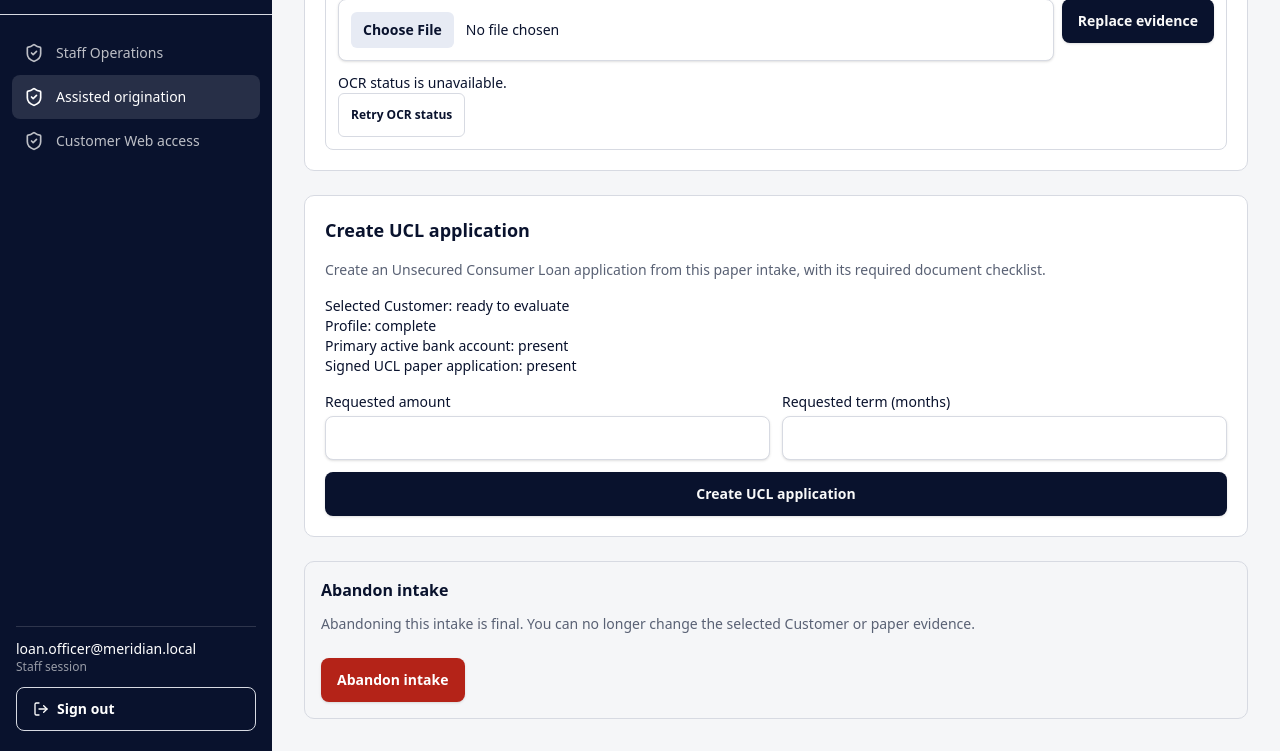
Test: assisted origination pages › reconciles a lost conversion as OPEN without automatically repeating POST
The image size is (1280, 751).
(page scrolled)
Type "10000000" into the number field labelled "Requested amount" at coordinates (548, 438), box [325,416,770,460]
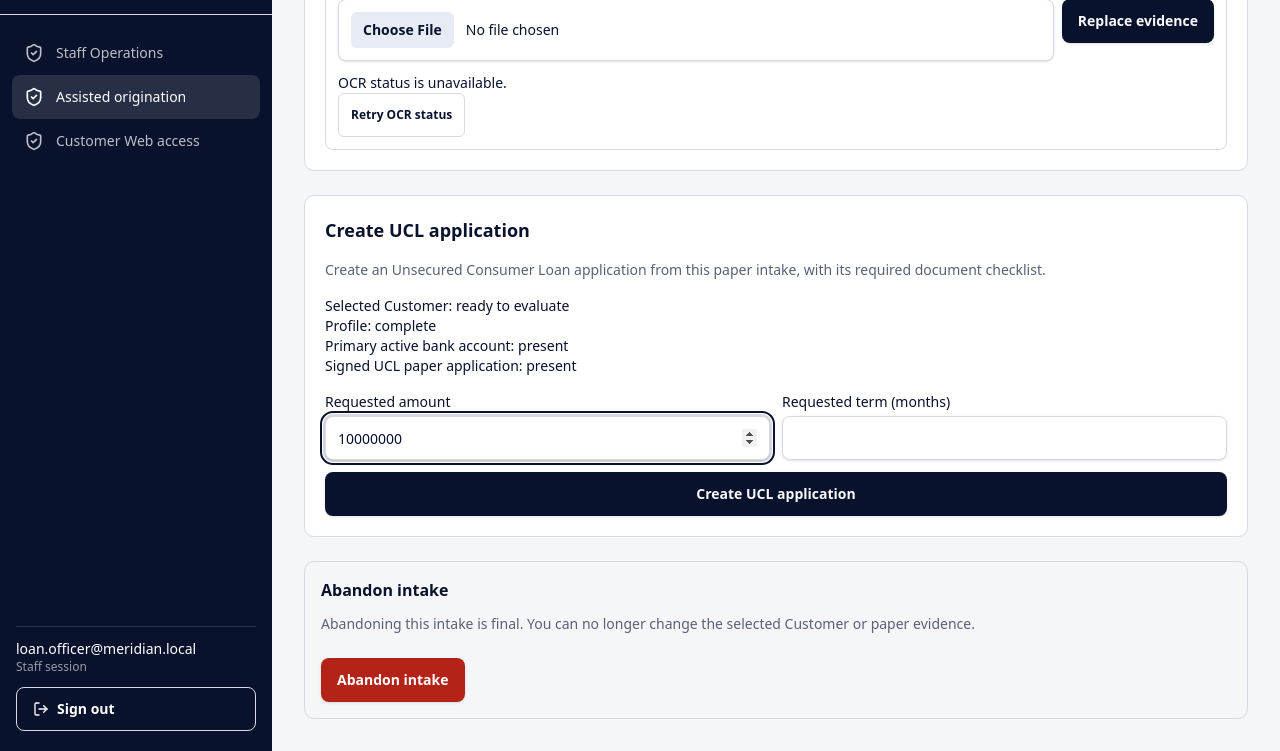
Type "12" into the number field labelled "Requested term (months)" at coordinates (1004, 438), box [782,416,1227,460]
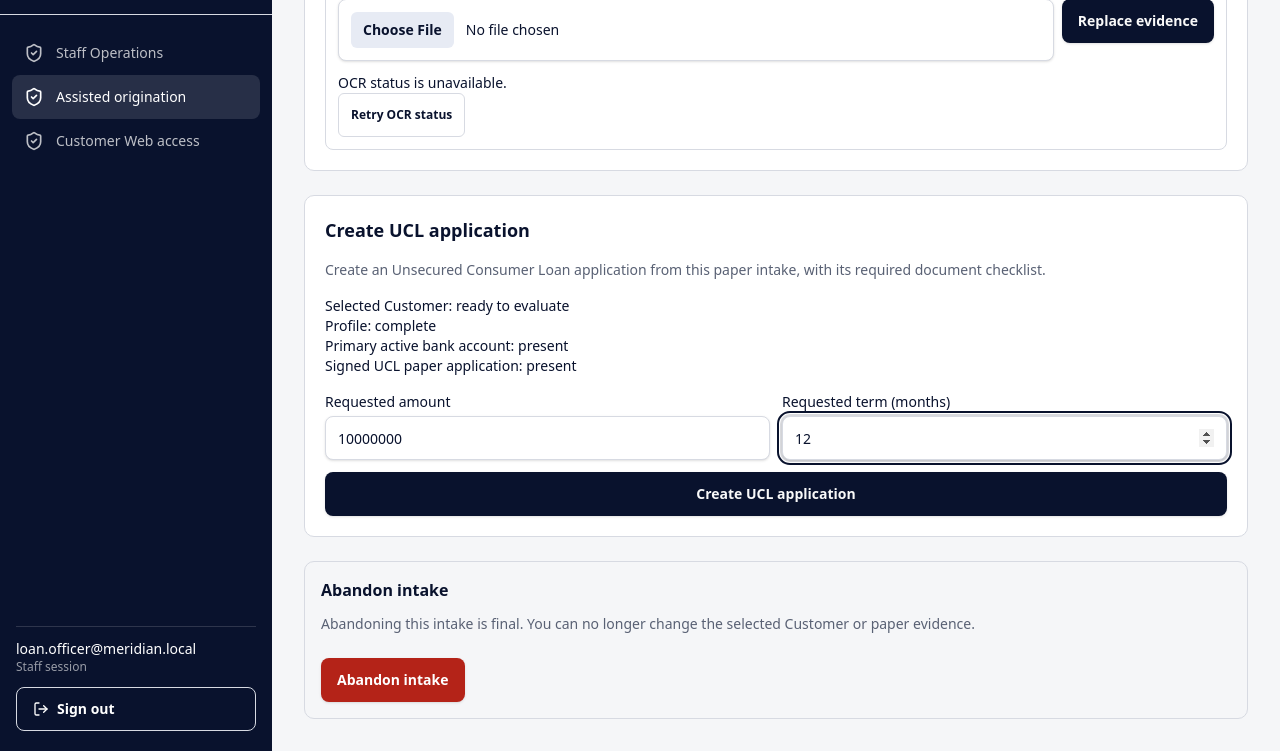
Click the button "Create UCL application" at coordinates (776, 494), box [325,472,1227,516]
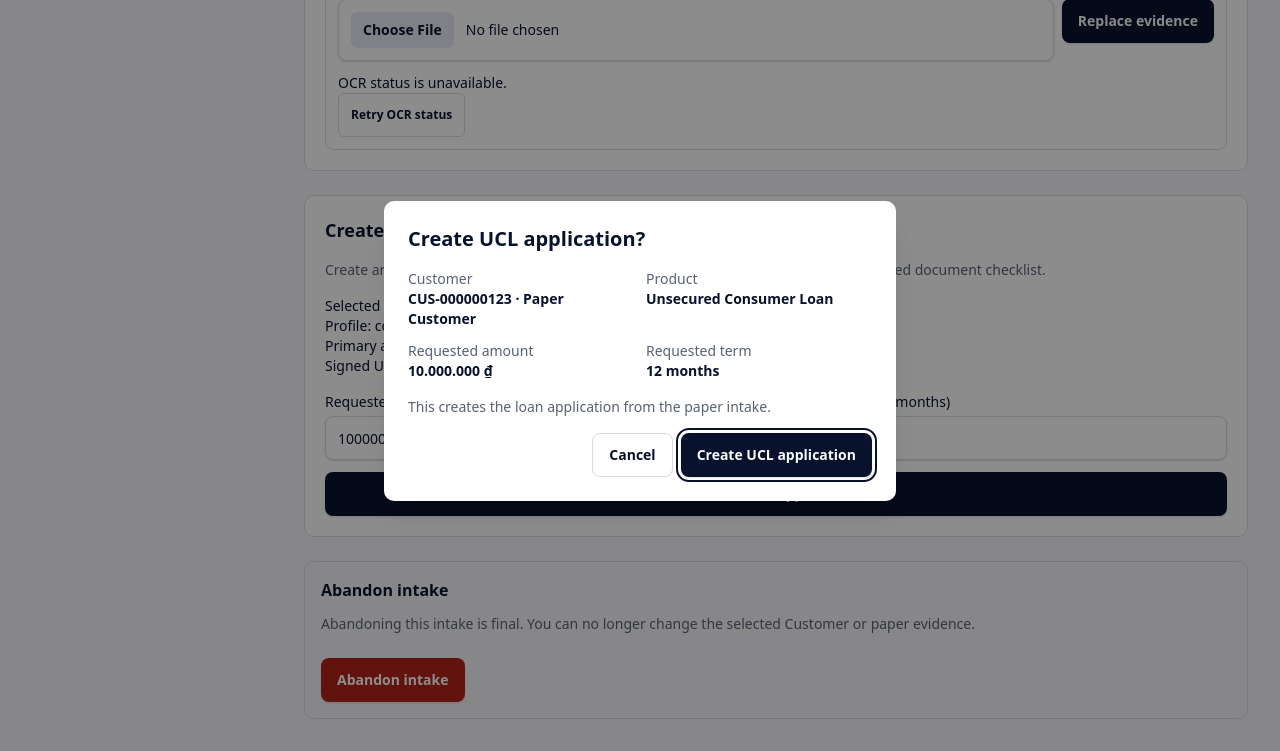
Click the button "Create UCL application" at coordinates (776, 455), box [681,433,872,477]
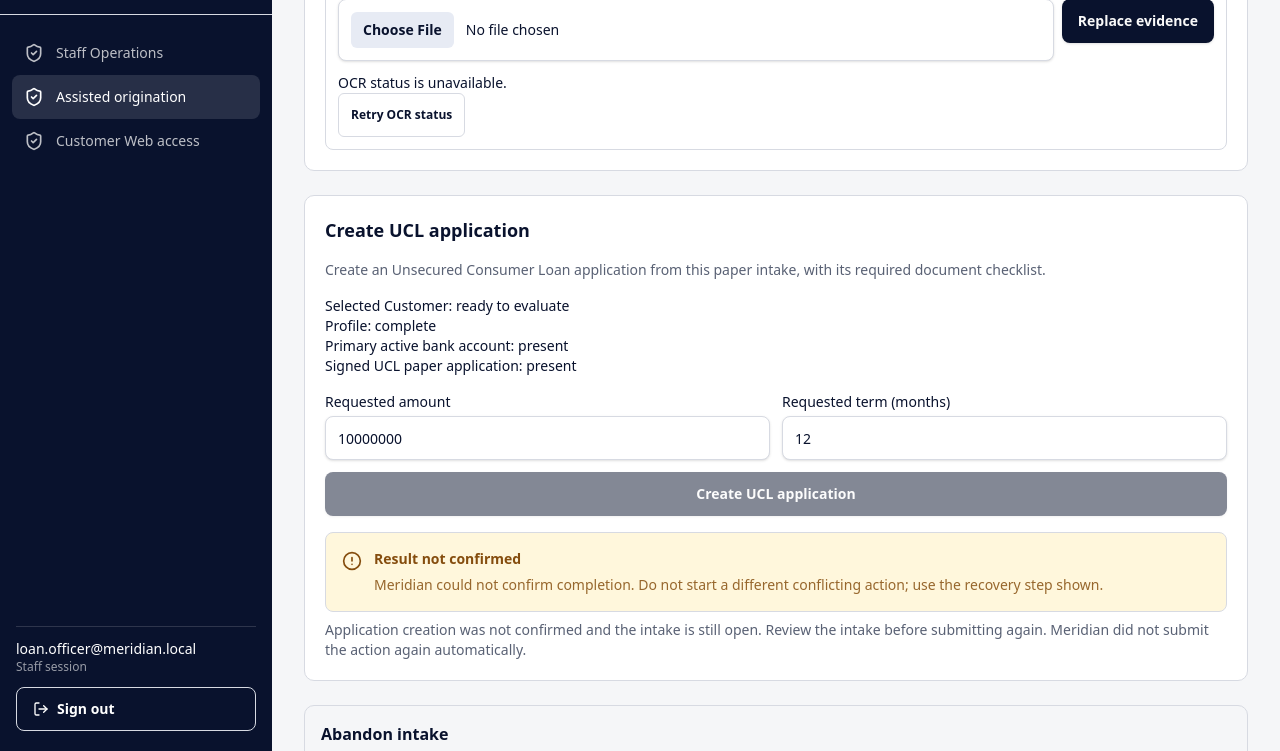
Check: the text "Application creation was not confirmed and the intake is still open" is shown, box [325,620,1209,659]
